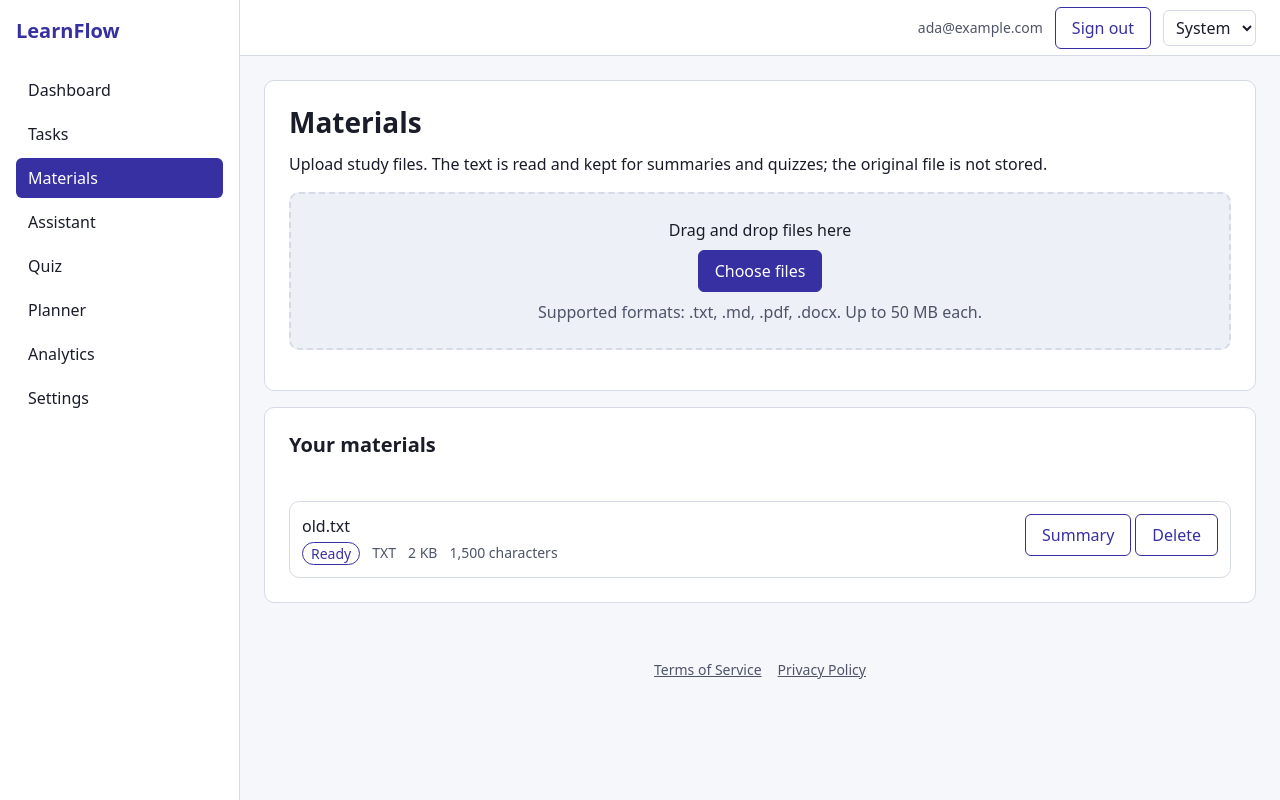
Scenario: deleting materials › deletes after confirmation, announces it, and the item leaves the list
The image size is (1280, 800).
Expected: the element that starts with "Materials" is shown, [240, 56, 1279, 643]
Click the button with aria-label "Delete: old.txt". click: (1177, 535)
box: [1135, 514, 1218, 556]
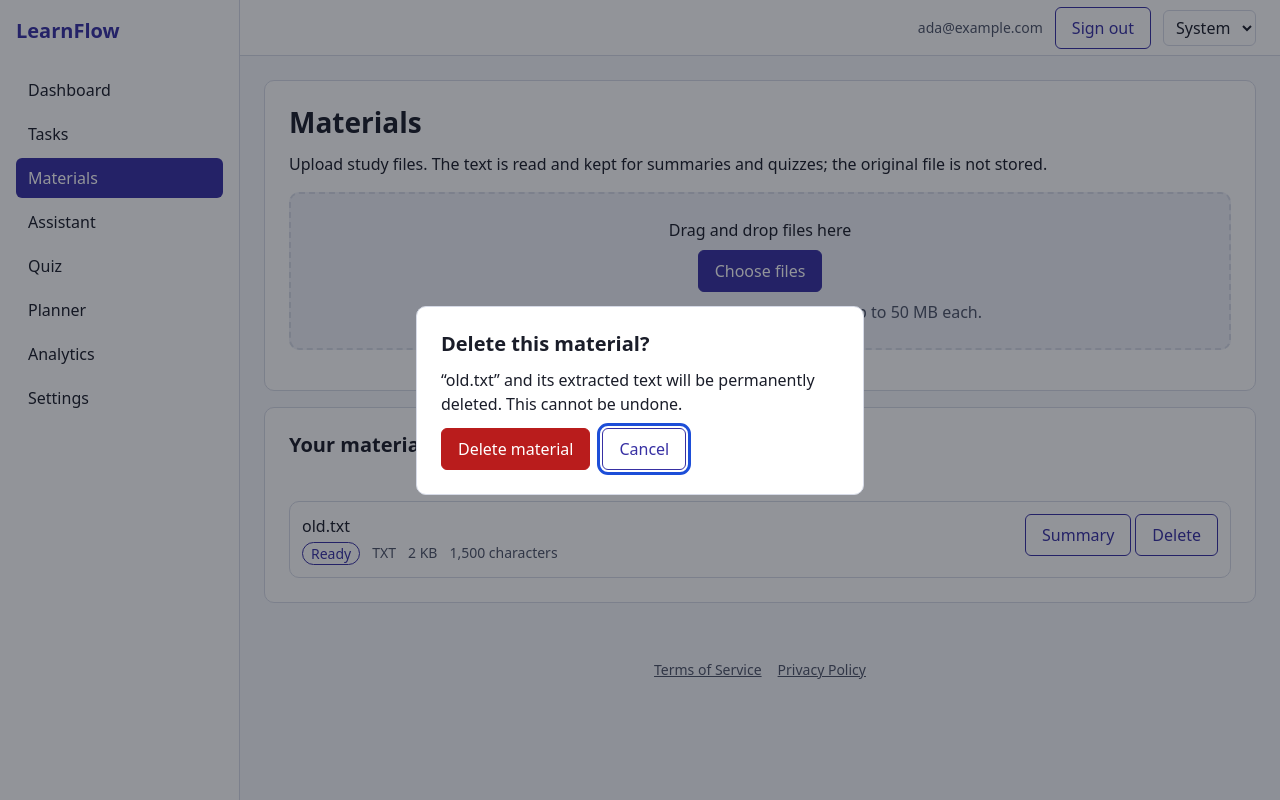
Click the button "Delete material". click: (516, 448)
box: [441, 428, 590, 470]
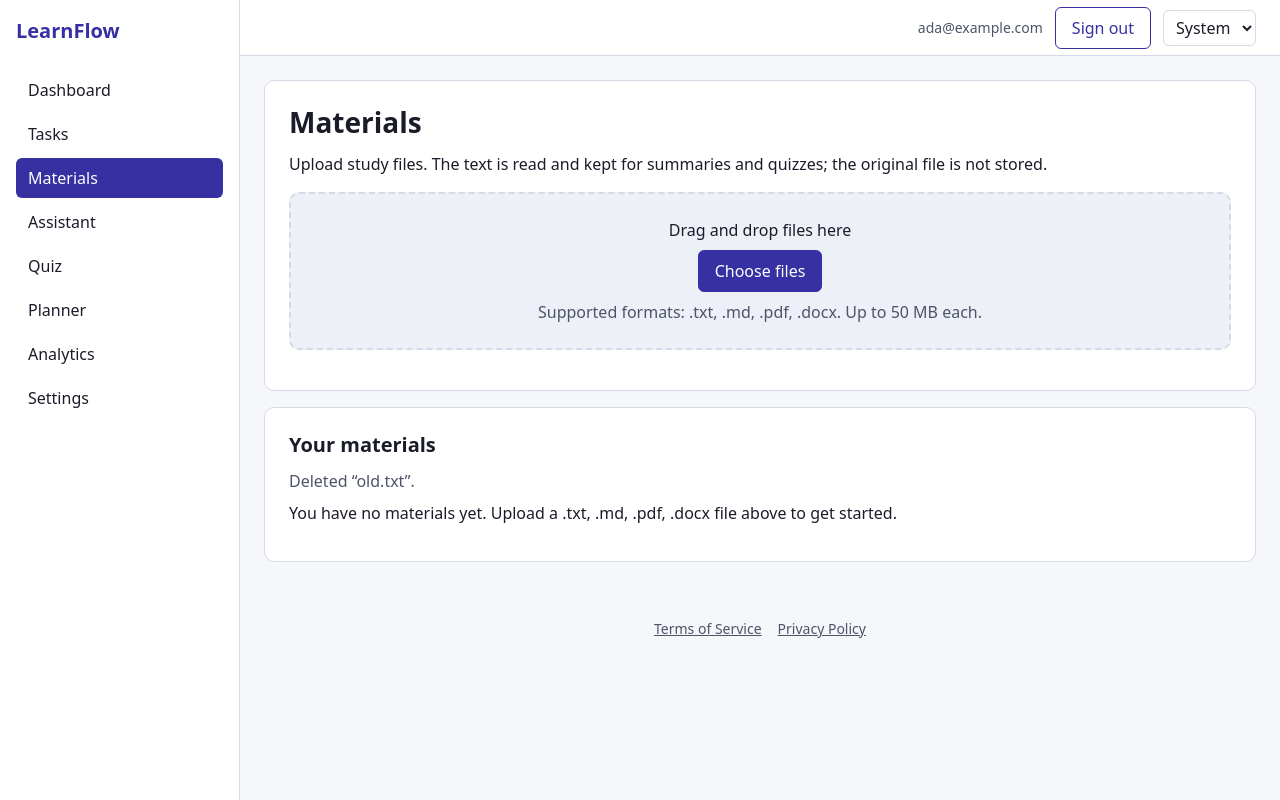
Expected: the dialog is gone
Expected: the text "You have no materials yet" is shown, [289, 502, 562, 524]
Expected: the text "Deleted “old.txt”." is shown, [289, 470, 415, 492]
